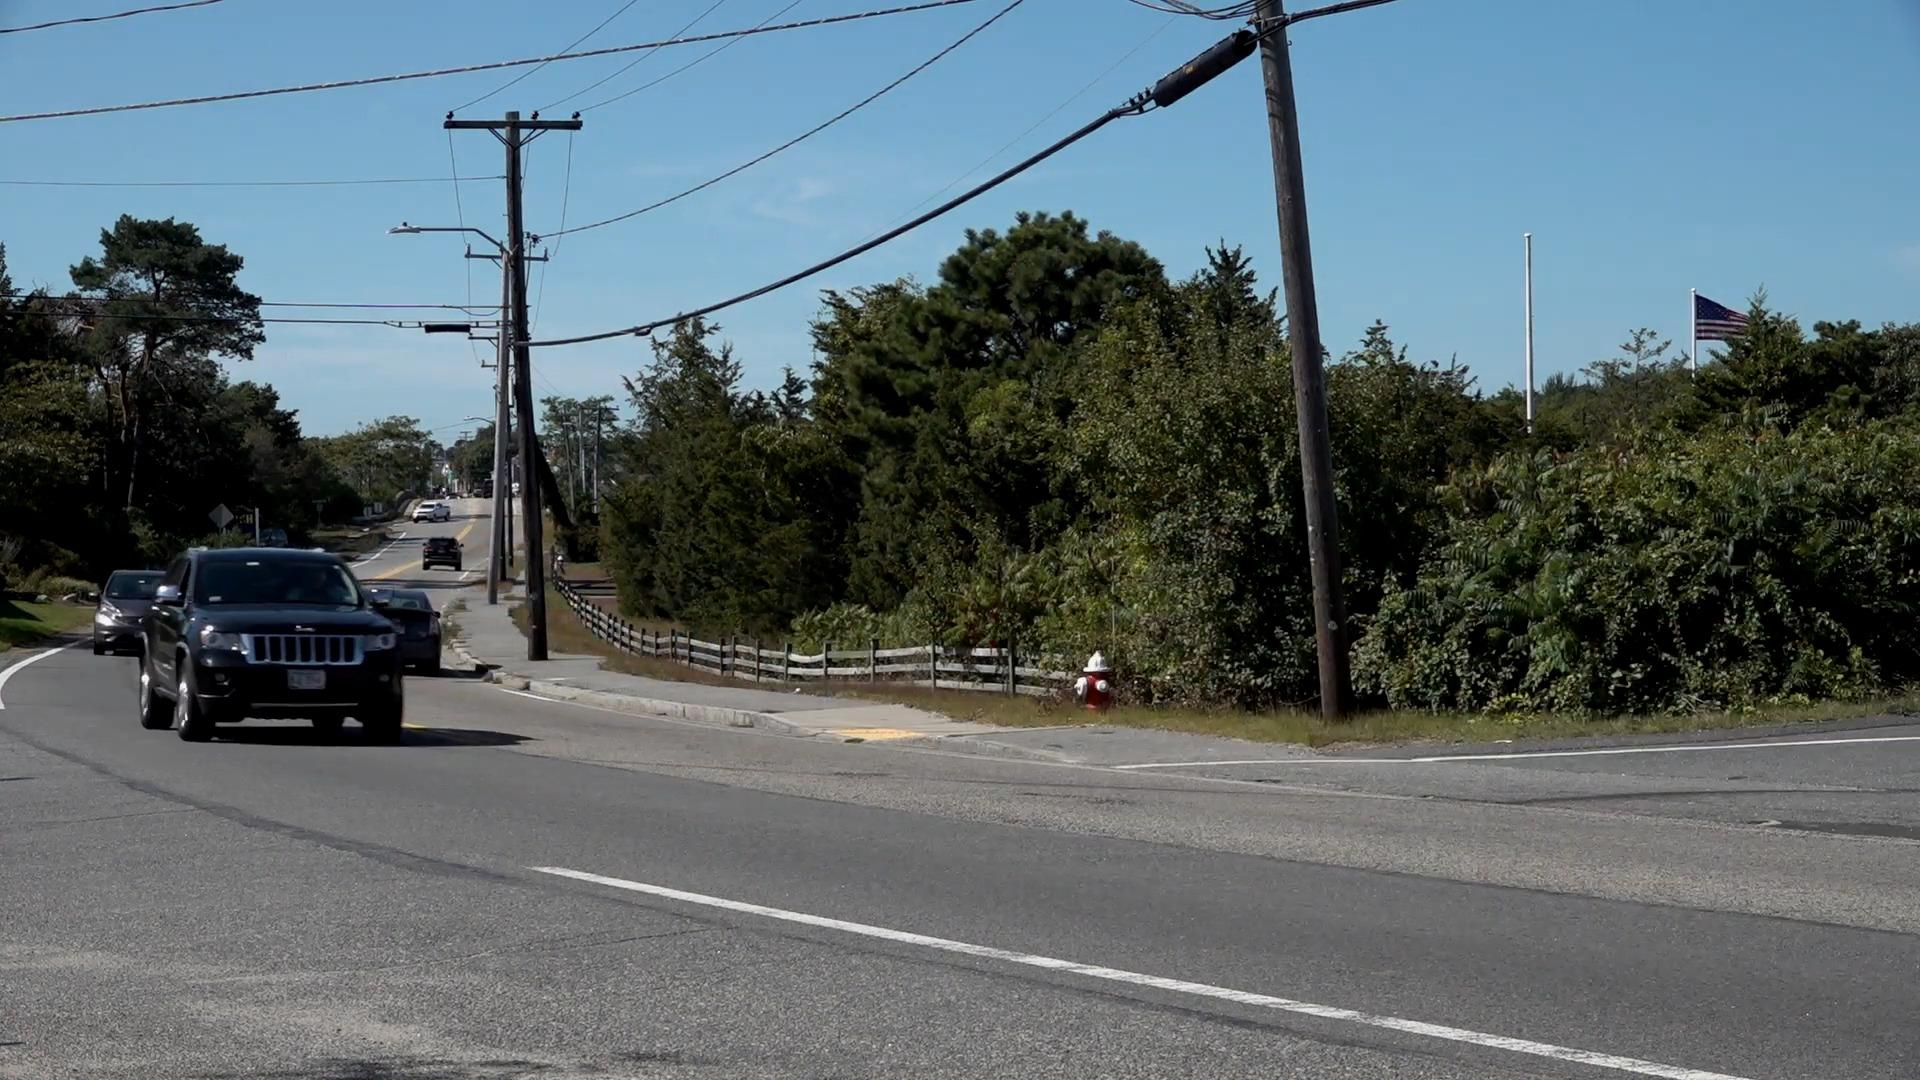suv: (140, 546, 409, 737)
